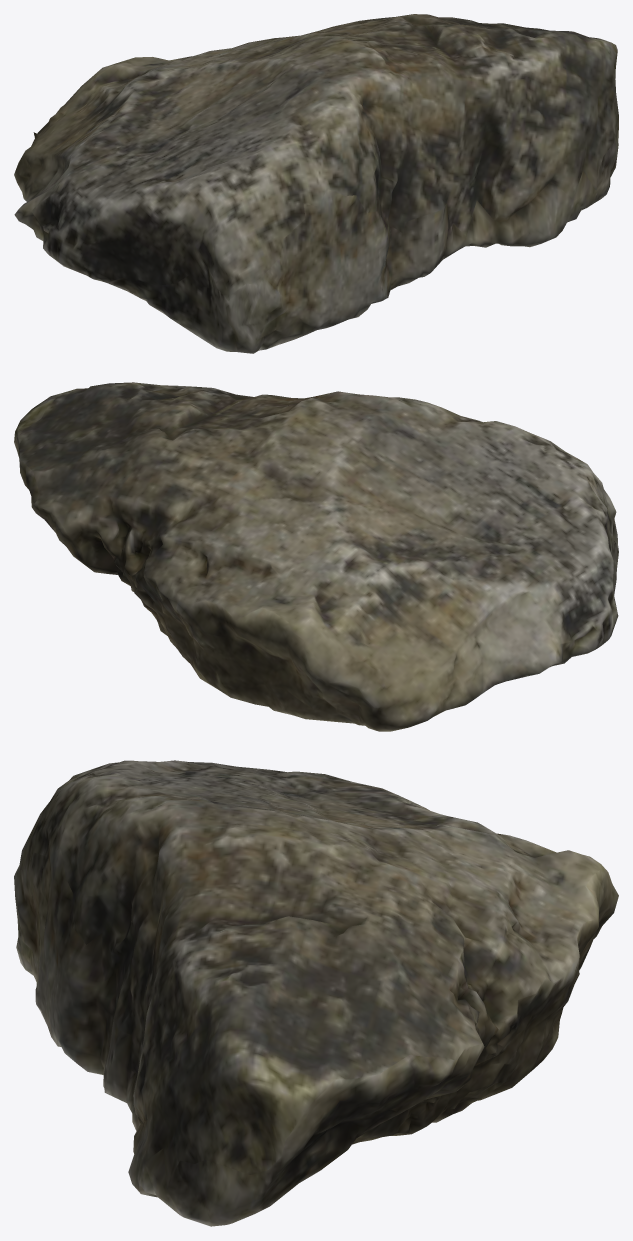
Rendered from Scan_MossStone_D.fbx.
3 views of the same model, one above another, from view 1: azimuth 30°, elevation 25°; view 2: azimuth 150°, elevation 25°; view 3: azimuth 270°, elevation 25° (orthographic). The views are drawn at different scales.
Parts seen in each view (by area): view 1: Scan_MossStone_D_LOD0; view 2: Scan_MossStone_D_LOD0; view 3: Scan_MossStone_D_LOD0.
Part boxes in pixels (left/top/right/bottom): Scan_MossStone_D_LOD0: left=14, top=14, right=618, bottom=353; Scan_MossStone_D_LOD0: left=14, top=382, right=618, bottom=731; Scan_MossStone_D_LOD0: left=14, top=760, right=618, bottom=1226.
Size of what is drawn, in the model's own units: 2.2 by 0.7694 by 1.55.
